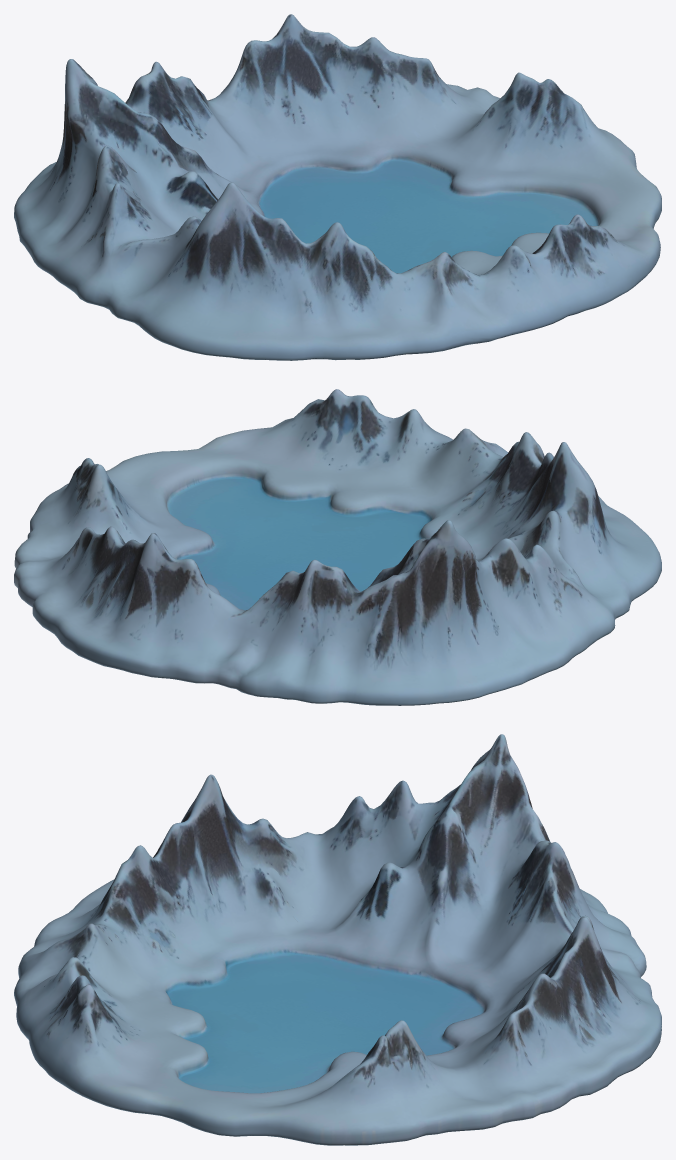
Rendered from Mountain_ver1.fbx.
3 renders of one model, top to bottom at view 1: azimuth 30°, elevation 25°; view 2: azimuth 150°, elevation 25°; view 3: azimuth 270°, elevation 25°, orthographic. The views are drawn at different scales.
Parts seen in each view (by area): view 1: tripo_node_a8c22f2f; view 2: tripo_node_a8c22f2f; view 3: tripo_node_a8c22f2f.
Boxes of the visible parts, bbox=[...] form: tripo_node_a8c22f2f: bbox=[14, 14, 661, 360]; tripo_node_a8c22f2f: bbox=[14, 389, 661, 705]; tripo_node_a8c22f2f: bbox=[14, 734, 661, 1145].
Bounding box in the file's own units: 99.81 × 27.36 × 95.83.
Materials: 1 (1 with a texture image).
